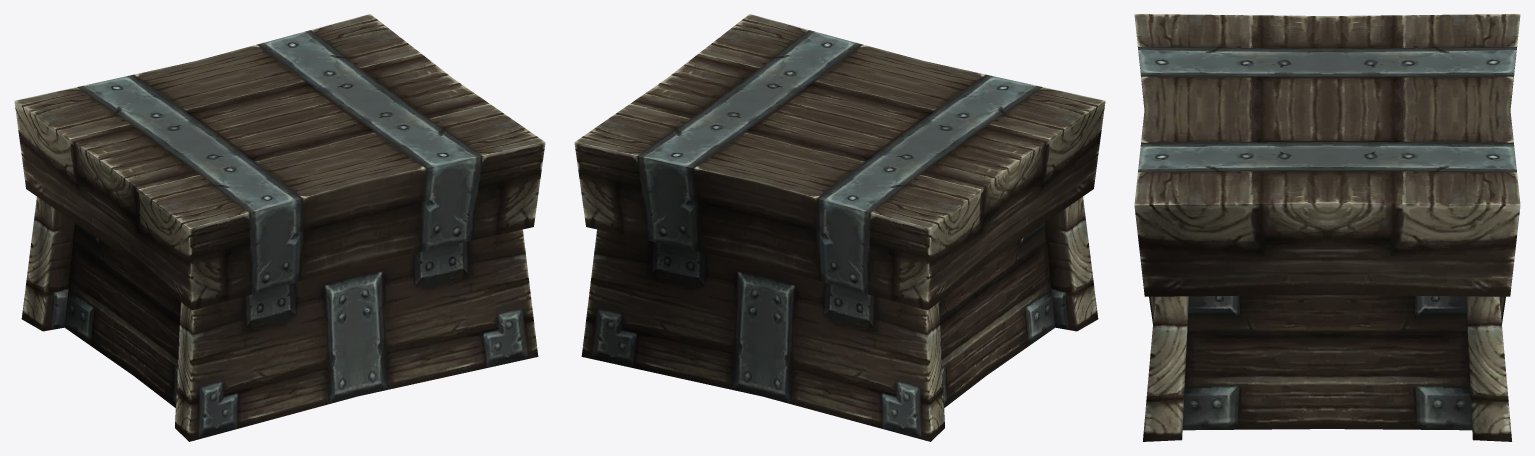
3 views of the same model, side by side, from view 1: azimuth 30°, elevation 25°; view 2: azimuth 150°, elevation 25°; view 3: azimuth 270°, elevation 25° (orthographic). The views are drawn at different scales.
Bounding box in the file's own units: 1.32 × 0.7734 × 1.13.
1 material, 1 textured.
